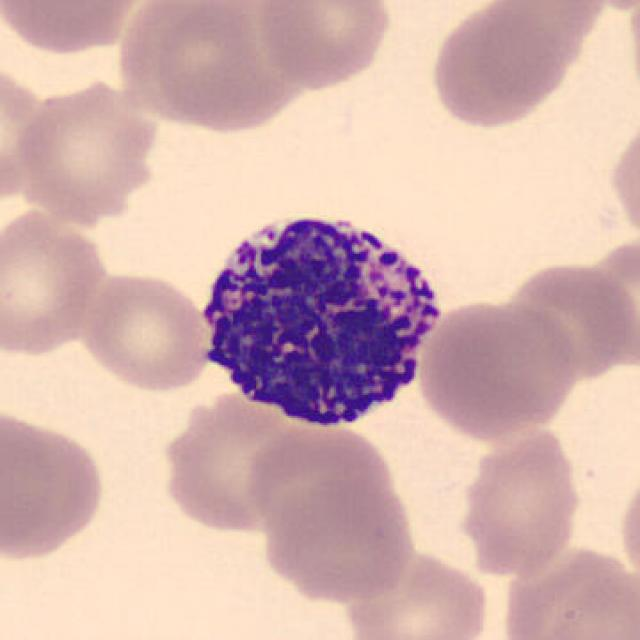Basophil: (187, 194, 453, 439)
RBC: (414, 0, 631, 203), (115, 0, 364, 139), (414, 294, 580, 442), (162, 397, 324, 529), (256, 474, 418, 605), (16, 82, 161, 224), (425, 0, 569, 132), (452, 423, 574, 573), (0, 202, 112, 360), (78, 268, 217, 395), (0, 407, 108, 564), (500, 258, 624, 386), (338, 545, 492, 640), (498, 543, 638, 640), (250, 0, 394, 90), (2, 0, 158, 58), (0, 71, 52, 209), (606, 112, 640, 248), (615, 458, 640, 589), (626, 0, 640, 111), (554, 0, 640, 16)
